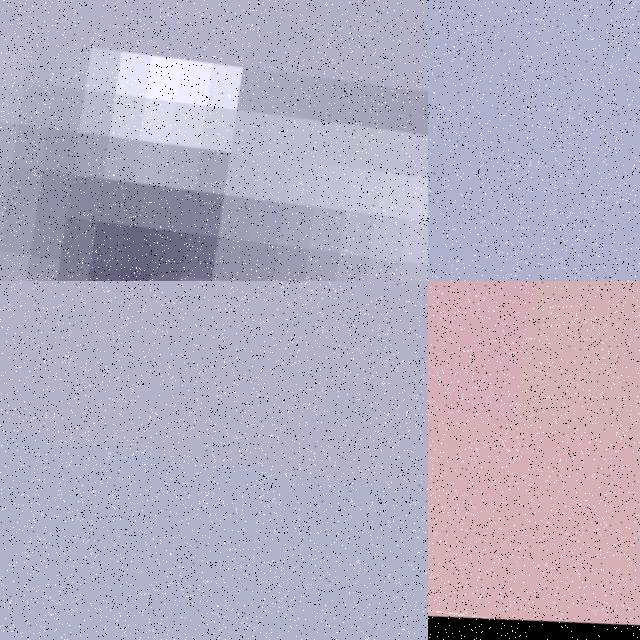0: (0, 0, 428, 281)
drone: (428, 281, 640, 640)
